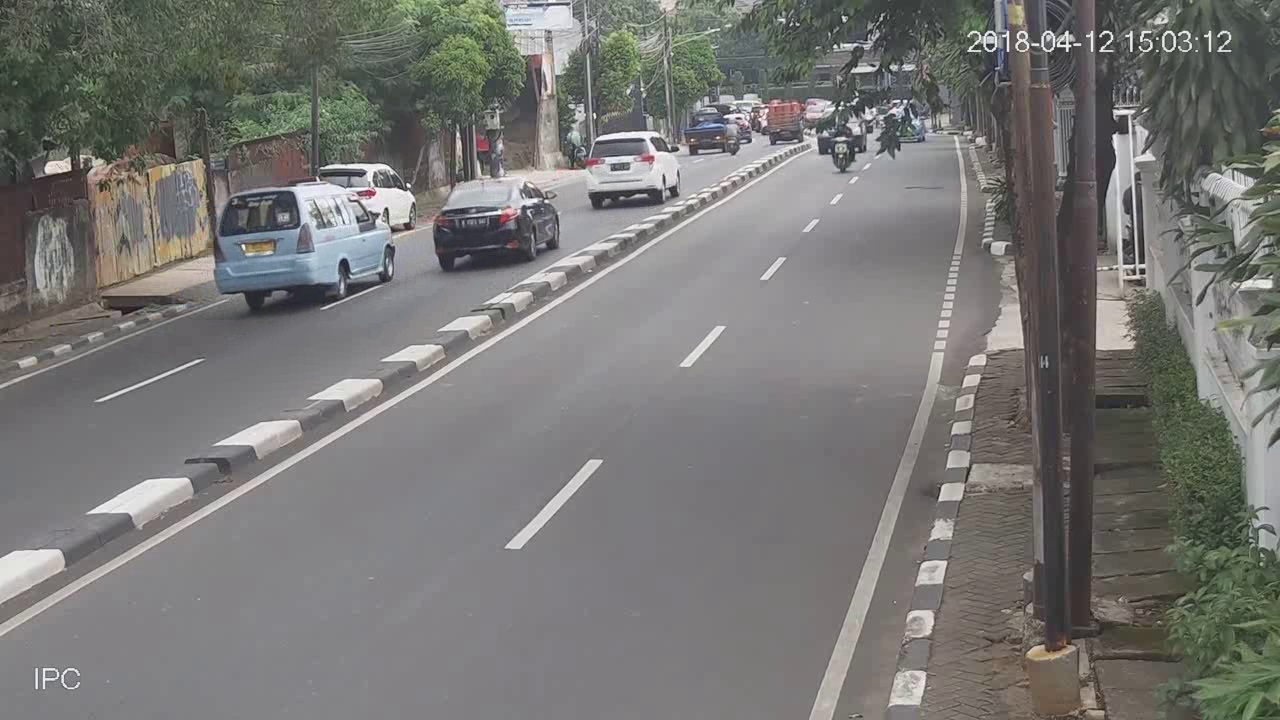car: (212, 181, 398, 308), (431, 176, 563, 271), (586, 133, 678, 209)
